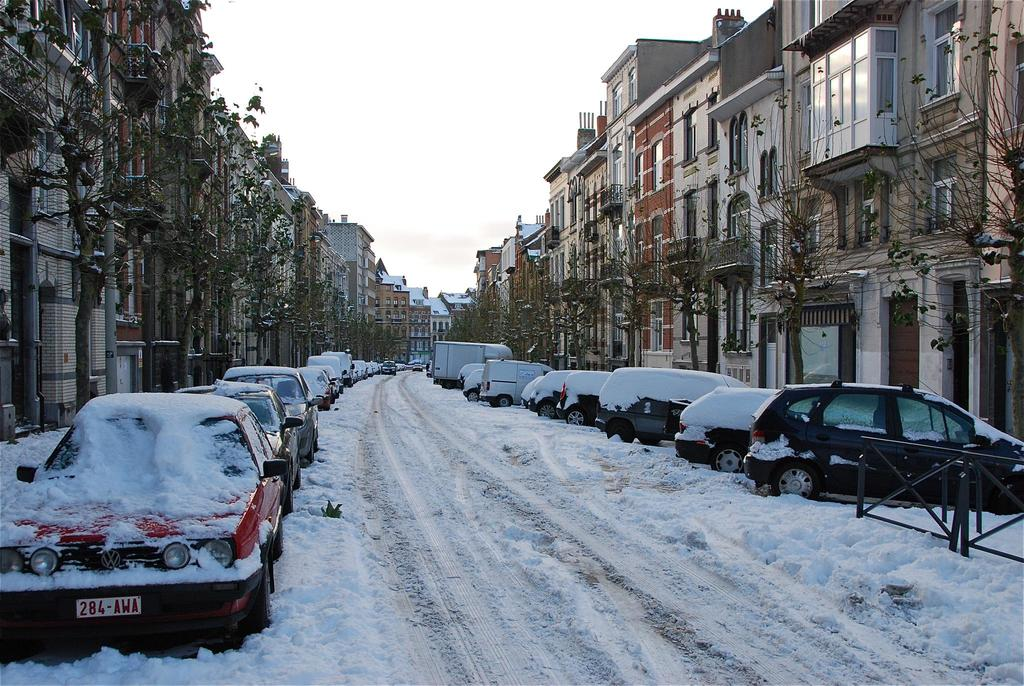Car: (168, 338, 1023, 525), (7, 381, 291, 653), (520, 365, 1023, 505), (179, 350, 414, 491), (465, 365, 477, 400)
